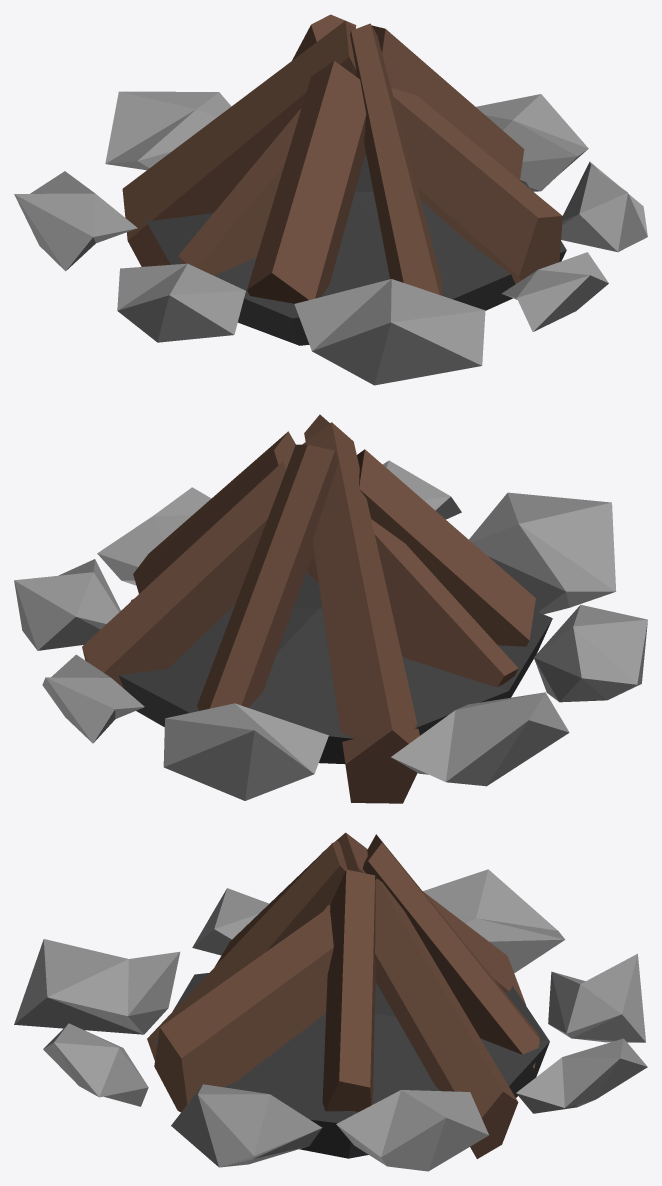
File: campfire.fbx
3 renders of one model, top to bottom at view 1: azimuth 30°, elevation 25°; view 2: azimuth 150°, elevation 25°; view 3: azimuth 270°, elevation 25°, orthographic. The views are drawn at different scales.
Parts seen in each view (by area): view 1: Campfire, Campfire Stones; view 2: Campfire, Campfire Stones; view 3: Campfire, Campfire Stones.
Boxes of the visible parts, box(x1,y1,x2,y2) form: Campfire: box(122, 14, 566, 345); Campfire Stones: box(14, 91, 647, 385); Campfire: box(82, 414, 552, 803); Campfire Stones: box(14, 460, 647, 800); Campfire: box(147, 832, 549, 1158); Campfire Stones: box(14, 869, 647, 1171).
Size of the model in its own units: 222 by 114 by 240.
